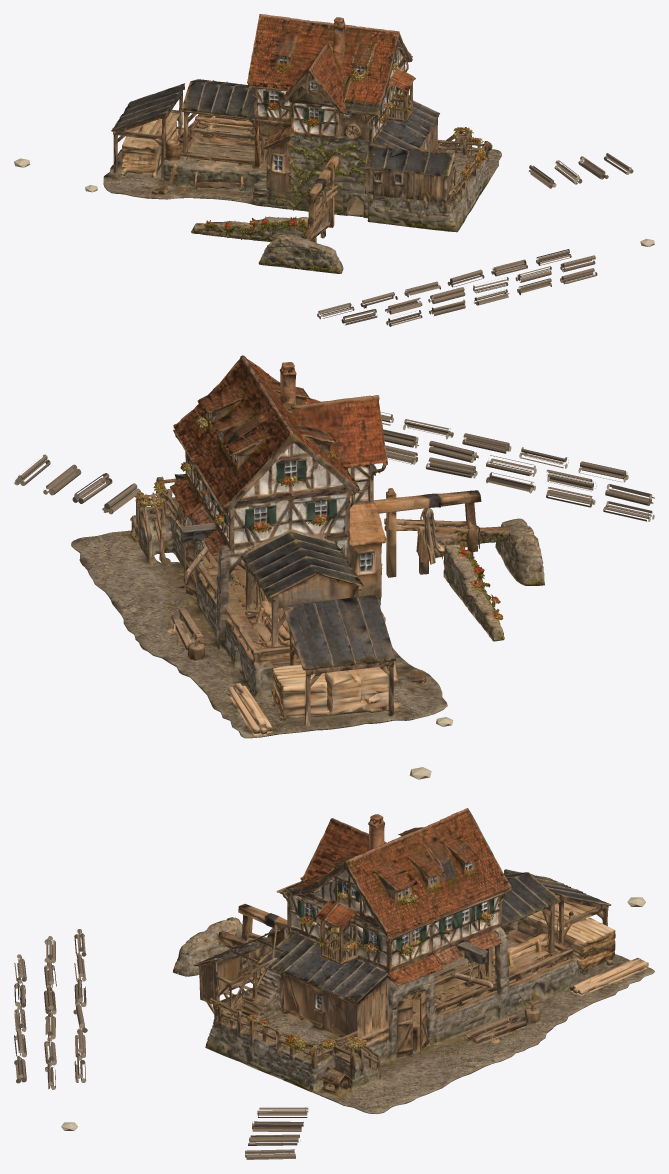
Rendered from sawmill.glb.
3 renders of one model, top to bottom at view 1: azimuth 30°, elevation 25°; view 2: azimuth 150°, elevation 25°; view 3: azimuth 270°, elevation 25°, orthographic. The views are drawn at different scales.
Parts seen in each view (by area): view 1: E4_Segheria, SAWMILL_props; view 2: E4_Segheria, SAWMILL_props; view 3: E4_Segheria, SAWMILL_props.
Boxes of the visible parts, x1=… form: E4_Segheria: x1=103, y1=14, x2=501, y2=273; SAWMILL_props: x1=14, y1=153, x2=654, y2=326; E4_Segheria: x1=71, y1=355, x2=544, y2=738; SAWMILL_props: x1=14, y1=412, x2=654, y2=779; E4_Segheria: x1=173, y1=808, x2=654, y2=1113; SAWMILL_props: x1=14, y1=897, x2=645, y2=1159.
Bounding box in the file's own units: 0.229 × 0.0848 × 0.2351.
2 materials, 2 textured.
